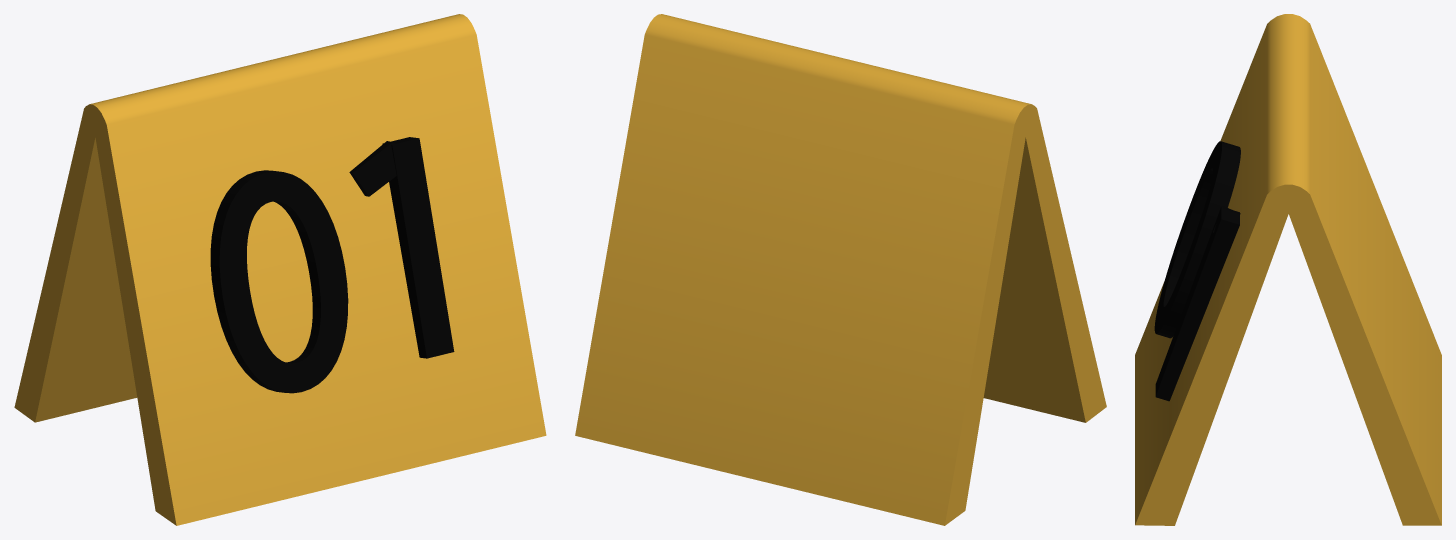
3 views of the same model, side by side, from view 1: azimuth 30°, elevation 25°; view 2: azimuth 150°, elevation 25°; view 3: azimuth 270°, elevation 25° (orthographic). The views are drawn at different scales.
Parts seen in each view (by area): view 1: Bordje, Text, Cube; view 2: Bordje; view 3: Bordje, Text.
Part boxes in pixels (box(x1,y1,x2,y2)): Bordje: box(14, 14, 546, 525); Text: box(210, 137, 454, 393); Cube: box(349, 141, 408, 196); Bordje: box(575, 14, 1106, 525); Bordje: box(1135, 14, 1441, 525); Text: box(1154, 141, 1240, 401).
Size of the model in its own units: 342 by 319 by 260.
